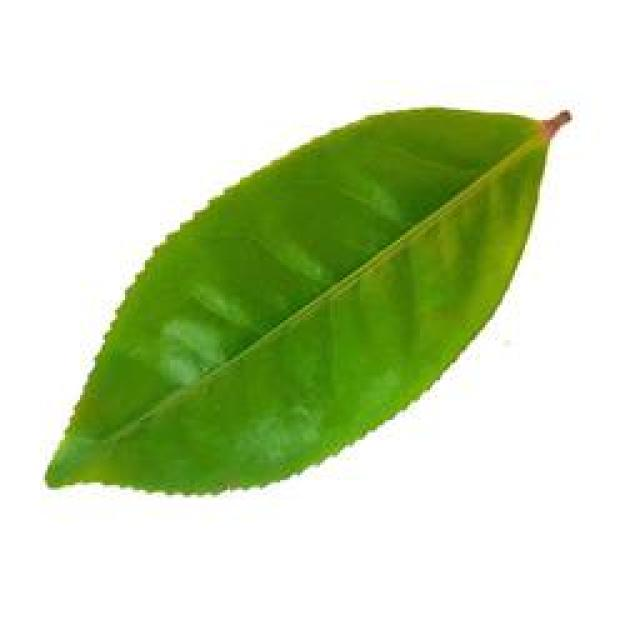Healthy: (41, 89, 574, 496)
